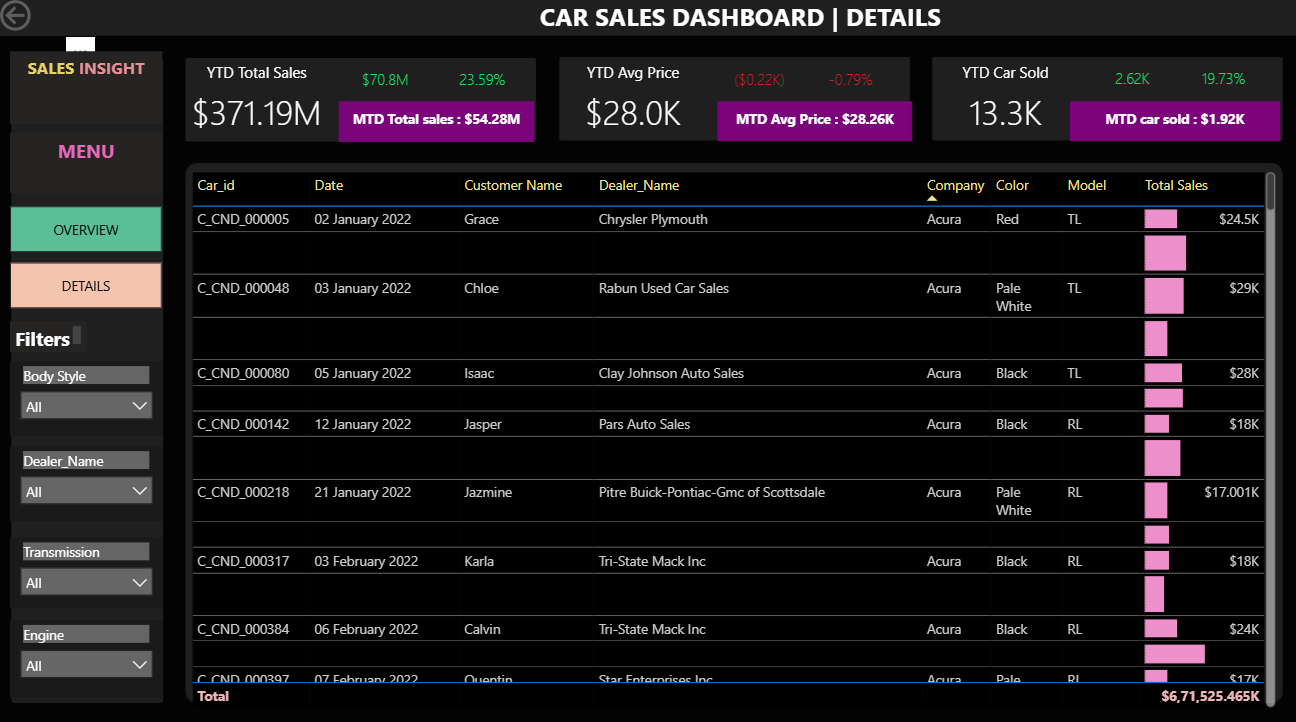

The page's visual inventory and layout, read from the dashboard file:
{"tool":"powerbi","page":{"name":"DETAILS","canvas":[1280,720],"ordinal":1},"visuals":[{"type":"card","title":"YTD Total Sales","fields":{"Values":["car_data.YTD TOTAL SALES"]},"box":[188,64.5,138.6,79.6],"z":0},{"type":"card","fields":{"Values":["car_data.SALES DIFFERENCE"]},"box":[332.1,64.5,101.5,39.8],"z":1000},{"type":"card","fields":{"Values":["car_data.YOY Sales Growth"]},"box":[426.8,64.5,102.9,39.8],"z":2000},{"type":"card","fields":{"Values":["car_data.MTD KPI"]},"box":[337.6,104.3,192.1,40],"z":3000},{"type":"card","title":"YTD  Avg Price","fields":{"Values":["car_data.YTD Avg Price"]},"box":[557.1,64.5,138.6,79.6],"z":4000},{"type":"card","fields":{"Values":["car_data.Avg Price Diff"]},"box":[695.7,64.5,109.8,39.8],"z":5000},{"type":"card","fields":{"Values":["car_data.YOY Avg Price Growth"]},"box":[784.9,64.5,109.8,39.8],"z":6000},{"type":"card","fields":{"Values":["car_data.MTD Avg Price KPI"]},"box":[709.2,104.3,191.4,39.3],"z":7000},{"type":"card","title":"YTD   Car Sold","fields":{"Values":["car_data.YTD Car Sold"]},"box":[922.7,65,138.7,79.8],"z":8000},{"type":"card","fields":{"Values":["car_data.Car Sold Diff"]},"box":[1061.4,65,110.4,39.3],"z":9000},{"type":"card","fields":{"Values":["car_data.YOY Car Sold Growth"]},"box":[1150.9,65,110.4,39.3],"z":10000},{"type":"card","fields":{"Values":["car_data.MTD Car Sold KPI"]},"box":[1055.2,104.3,206.1,39.3],"z":11000},{"type":"textbox","box":[530.1,0,516.6,55.2],"z":12000},{"type":"slicer","fields":{"Values":["car_data.Body Style"]},"box":[14.7,359.5,149.7,73.6],"z":13000},{"type":"slicer","fields":{"Values":["car_data.Dealer_Name"]},"box":[14.7,442.9,149.7,73.6],"z":14000},{"type":"slicer","fields":{"Values":["car_data.Transmission"]},"box":[14.7,532.5,149.7,69.9],"z":15000},{"type":"slicer","fields":{"Values":["car_data.Engine"]},"box":[14.7,613.5,149.7,76.1],"z":16000},{"type":"textbox","box":[14.7,320.2,74.8,30.7],"z":17000},{"type":"tableEx","fields":{"Values":["car_data.Car_id","car_data.Date","car_data.Customer Name","car_data.Dealer_Name","car_data.Company","car_data.Color","car_data.Model","car_data.Price ($)"]},"box":[187.7,169.3,1073.6,535],"z":18000},{"type":"actionButton","box":[0,0,100,40],"z":19000},{"type":"textbox","box":[14.7,55.2,149.7,71.2],"z":20000},{"type":"textbox","box":[14.7,135,149.7,58.9],"z":21000},{"type":"pageNavigator","box":[14.7,207.4,149.7,101.8],"z":22000}]}

Visuals, with their boxes in screenshot pixels (x1, y1, x2, y2), scaled from the page's 1280x720 canvas onto the 1296x722 screenshot:
"YTD Total Sales" card: {"left": 190, "top": 65, "right": 331, "bottom": 145}
card - car_data.SALES DIFFERENCE: {"left": 336, "top": 65, "right": 439, "bottom": 105}
card - car_data.YOY Sales Growth: {"left": 432, "top": 65, "right": 536, "bottom": 105}
card - car_data.MTD KPI: {"left": 342, "top": 105, "right": 536, "bottom": 145}
"YTD  Avg Price" card: {"left": 564, "top": 65, "right": 704, "bottom": 145}
card - car_data.Avg Price Diff: {"left": 704, "top": 65, "right": 816, "bottom": 105}
card - car_data.YOY Avg Price Growth: {"left": 795, "top": 65, "right": 906, "bottom": 105}
card - car_data.MTD Avg Price KPI: {"left": 718, "top": 105, "right": 912, "bottom": 144}
"YTD   Car Sold" card: {"left": 934, "top": 65, "right": 1075, "bottom": 145}
card - car_data.Car Sold Diff: {"left": 1075, "top": 65, "right": 1186, "bottom": 105}
card - car_data.YOY Car Sold Growth: {"left": 1165, "top": 65, "right": 1277, "bottom": 105}
card - car_data.MTD Car Sold KPI: {"left": 1068, "top": 105, "right": 1277, "bottom": 144}
textbox: {"left": 537, "top": 0, "right": 1060, "bottom": 55}
slicer - car_data.Body Style: {"left": 15, "top": 360, "right": 166, "bottom": 434}
slicer - car_data.Dealer_Name: {"left": 15, "top": 444, "right": 166, "bottom": 518}
slicer - car_data.Transmission: {"left": 15, "top": 534, "right": 166, "bottom": 604}
slicer - car_data.Engine: {"left": 15, "top": 615, "right": 166, "bottom": 692}
textbox: {"left": 15, "top": 321, "right": 91, "bottom": 352}
tableEx - car_data.Car_id x car_data.Date: {"left": 190, "top": 170, "right": 1277, "bottom": 706}
actionButton: {"left": 0, "top": 0, "right": 101, "bottom": 40}
textbox: {"left": 15, "top": 55, "right": 166, "bottom": 127}
textbox: {"left": 15, "top": 135, "right": 166, "bottom": 194}
pageNavigator: {"left": 15, "top": 208, "right": 166, "bottom": 310}
